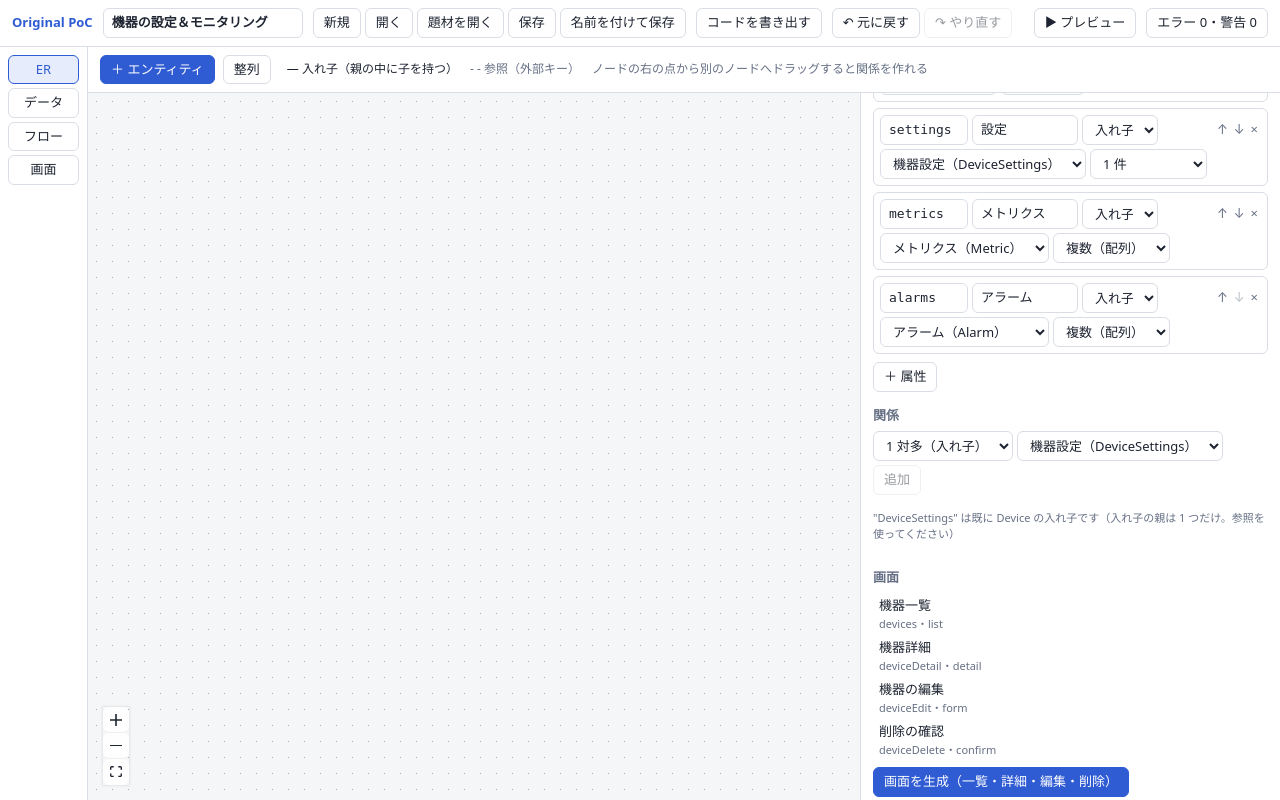
Test: ER ビュー › 入れ子にすると消えるデータがあれば確かめる
(page scrolled)
Select "拠点（Site）" in the dropdown named "関係の相手": (1120, 446) [1017,431,1223,461]
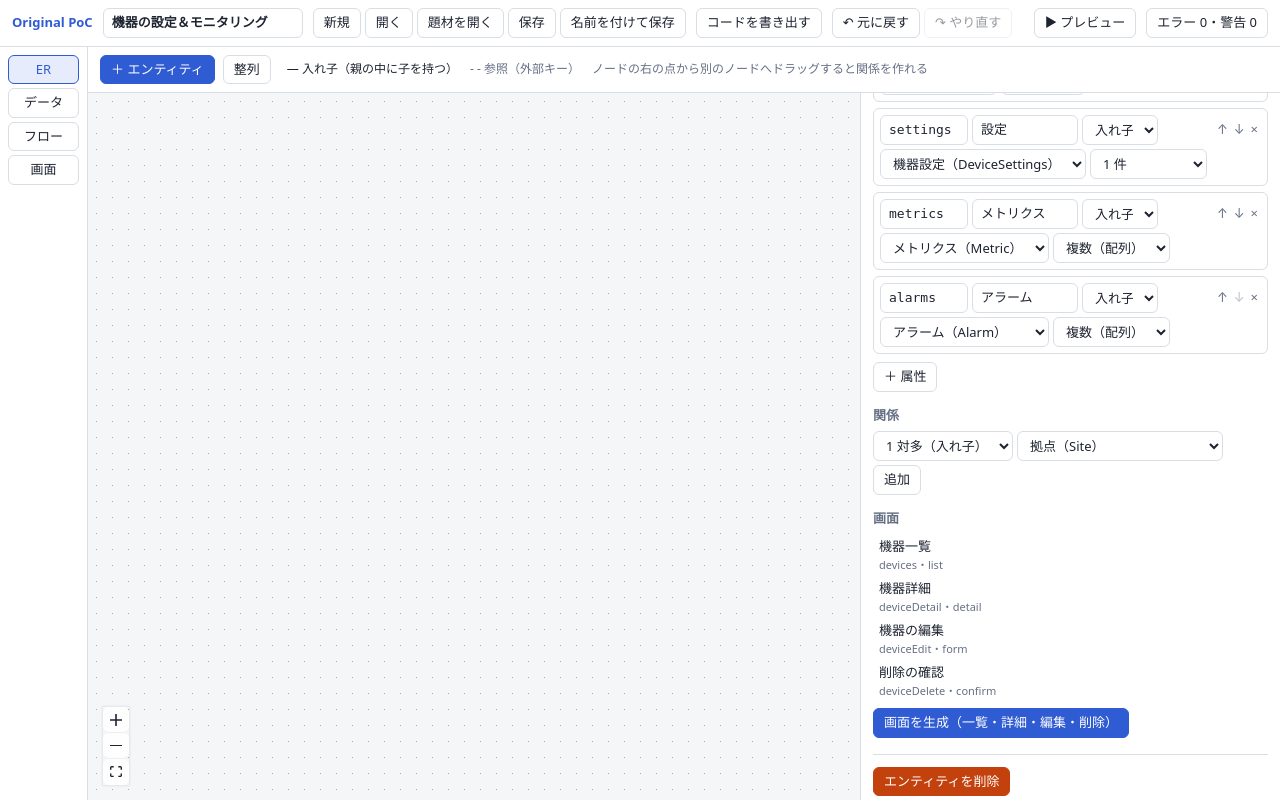
Click the button "追加": (897, 480) [873,465,921,494]
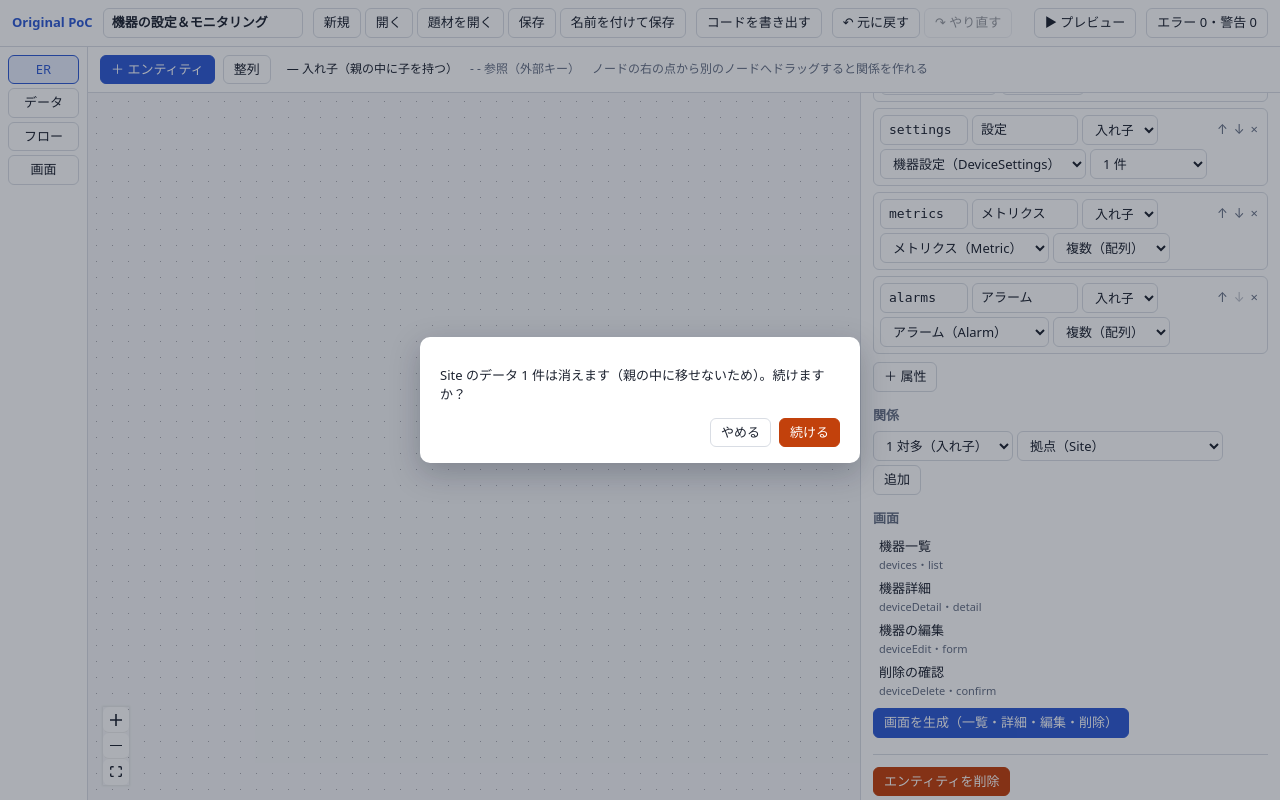
Now the dialog shows "Site のデータ 1 件は消えます", box [440,366,825,403]
